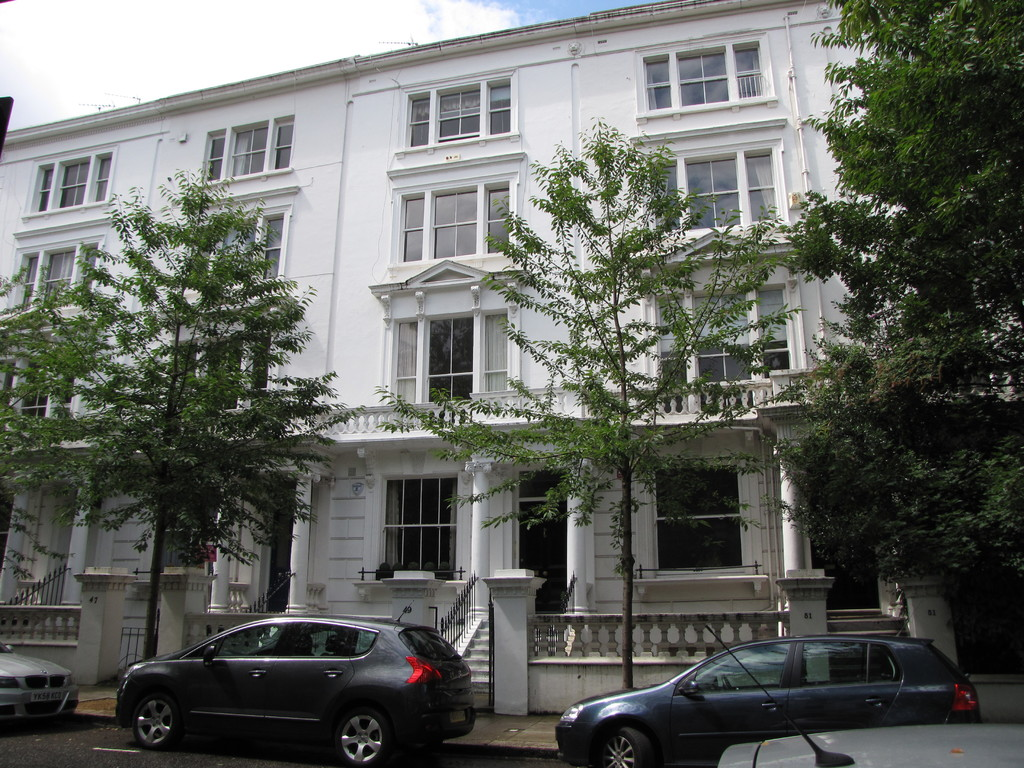Car: (0, 640, 717, 767), (110, 615, 475, 767), (554, 636, 973, 759), (717, 714, 1023, 767)
